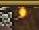torchT: (1, 1, 39, 30)
